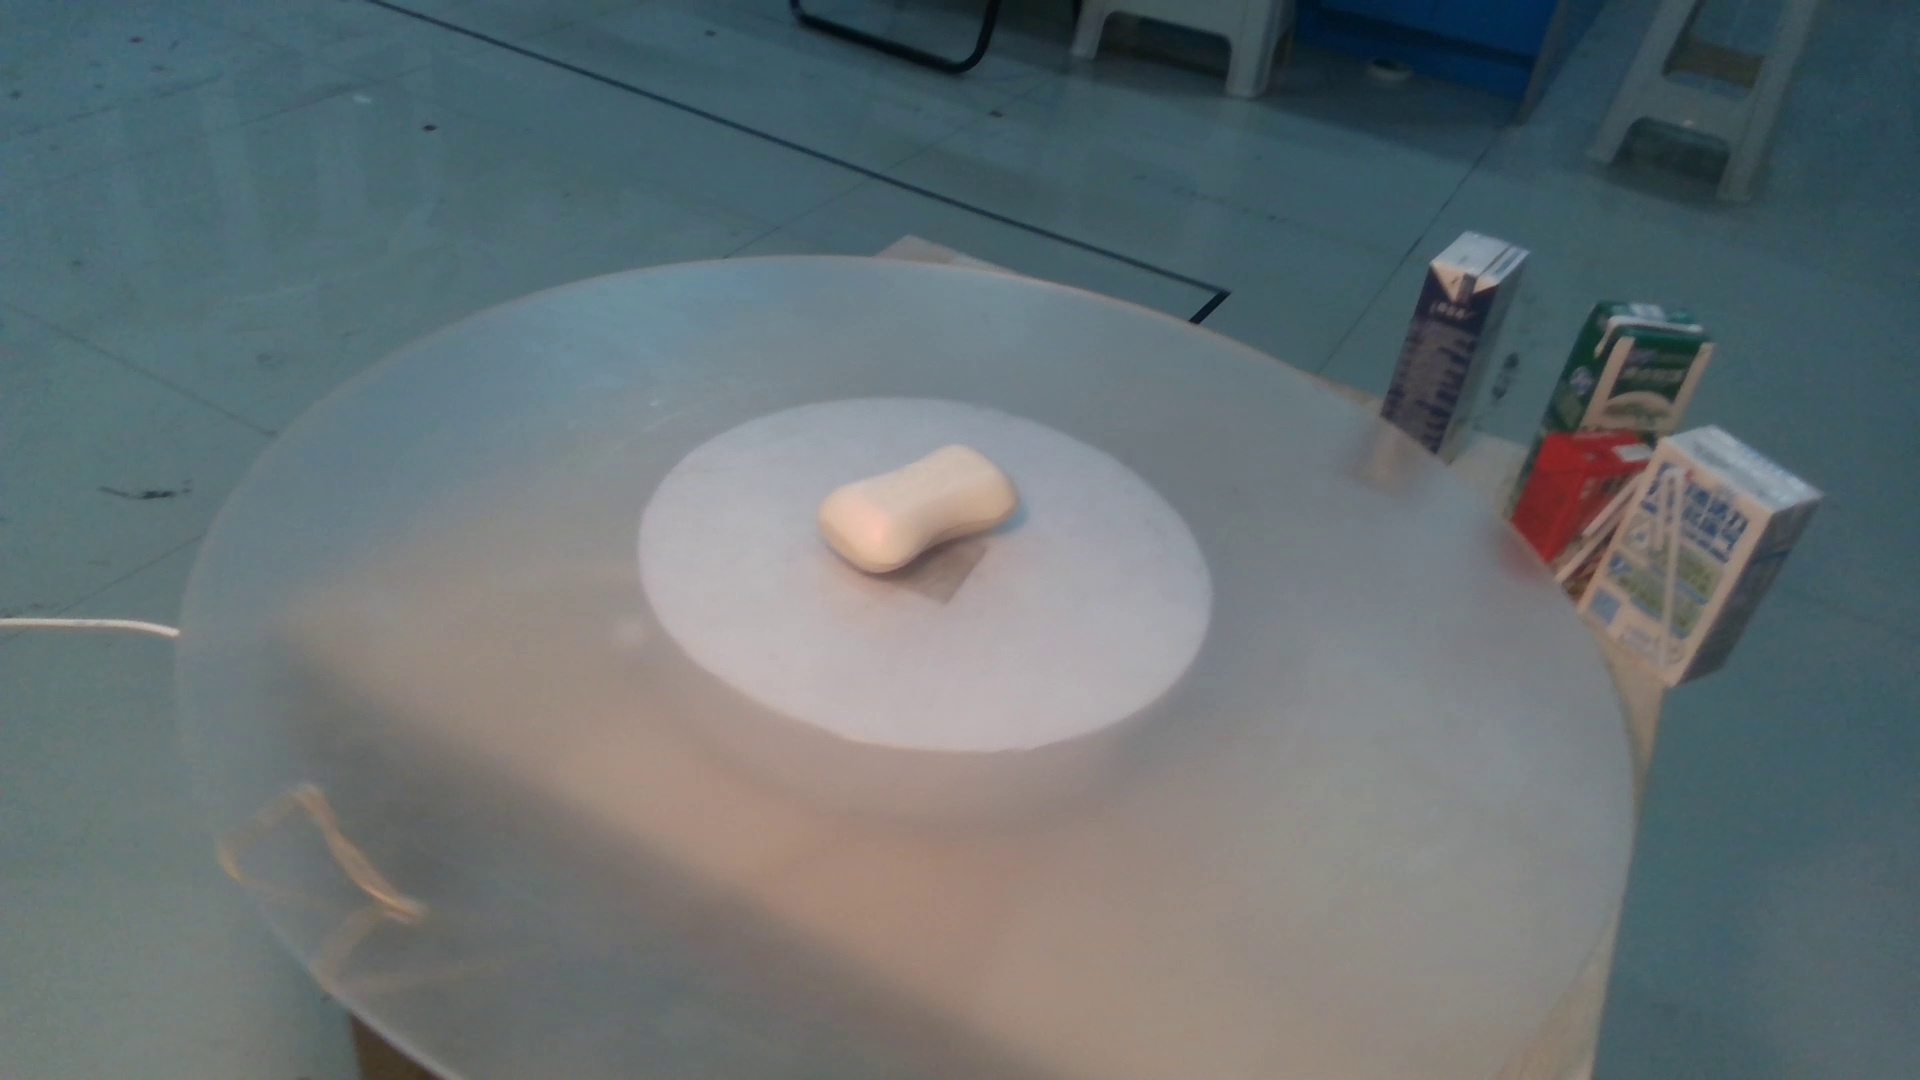CA003_1: (808, 426, 1036, 596)
